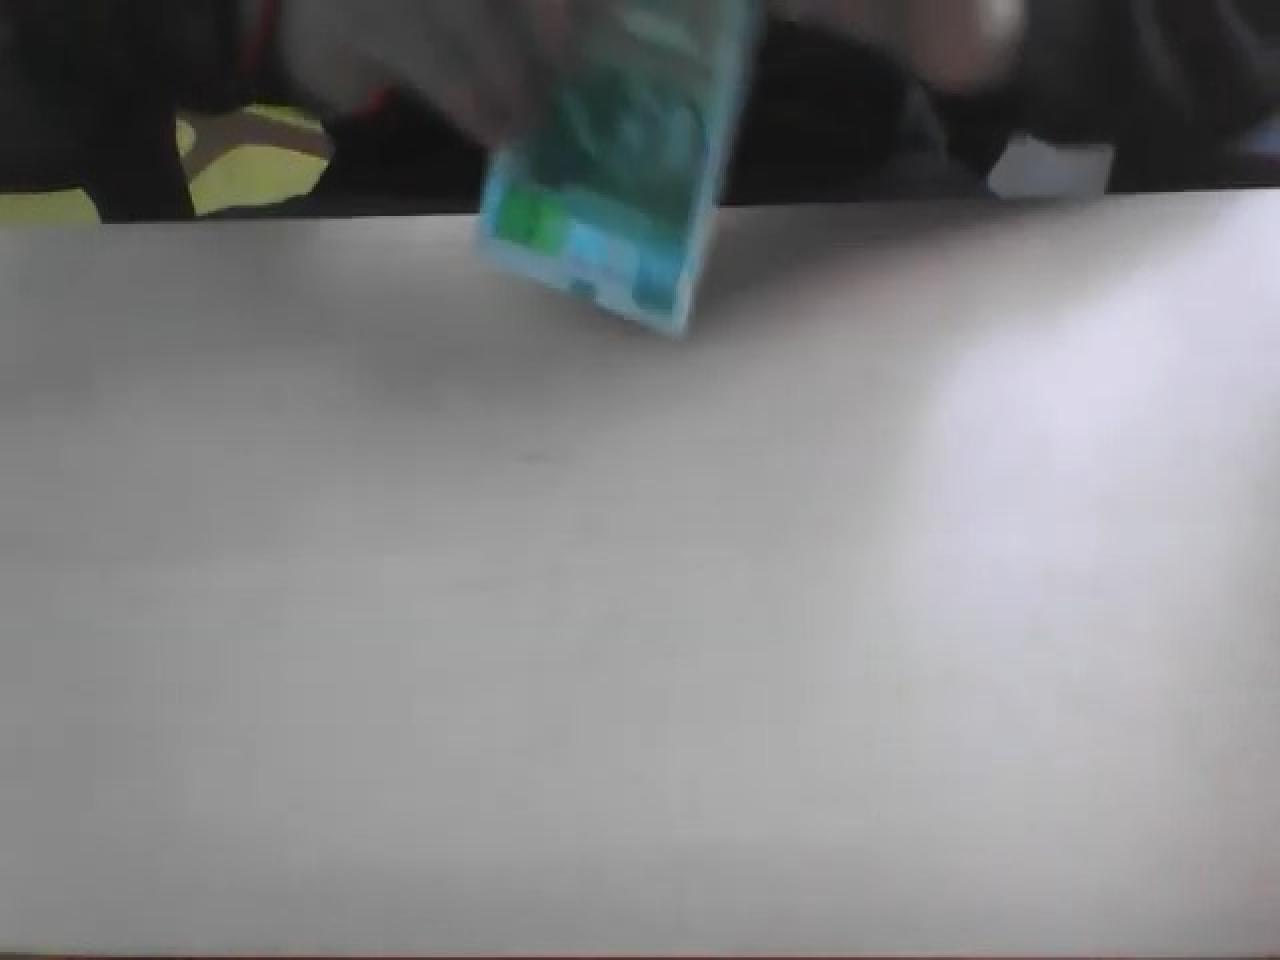100leva: (474, 0, 762, 339)
